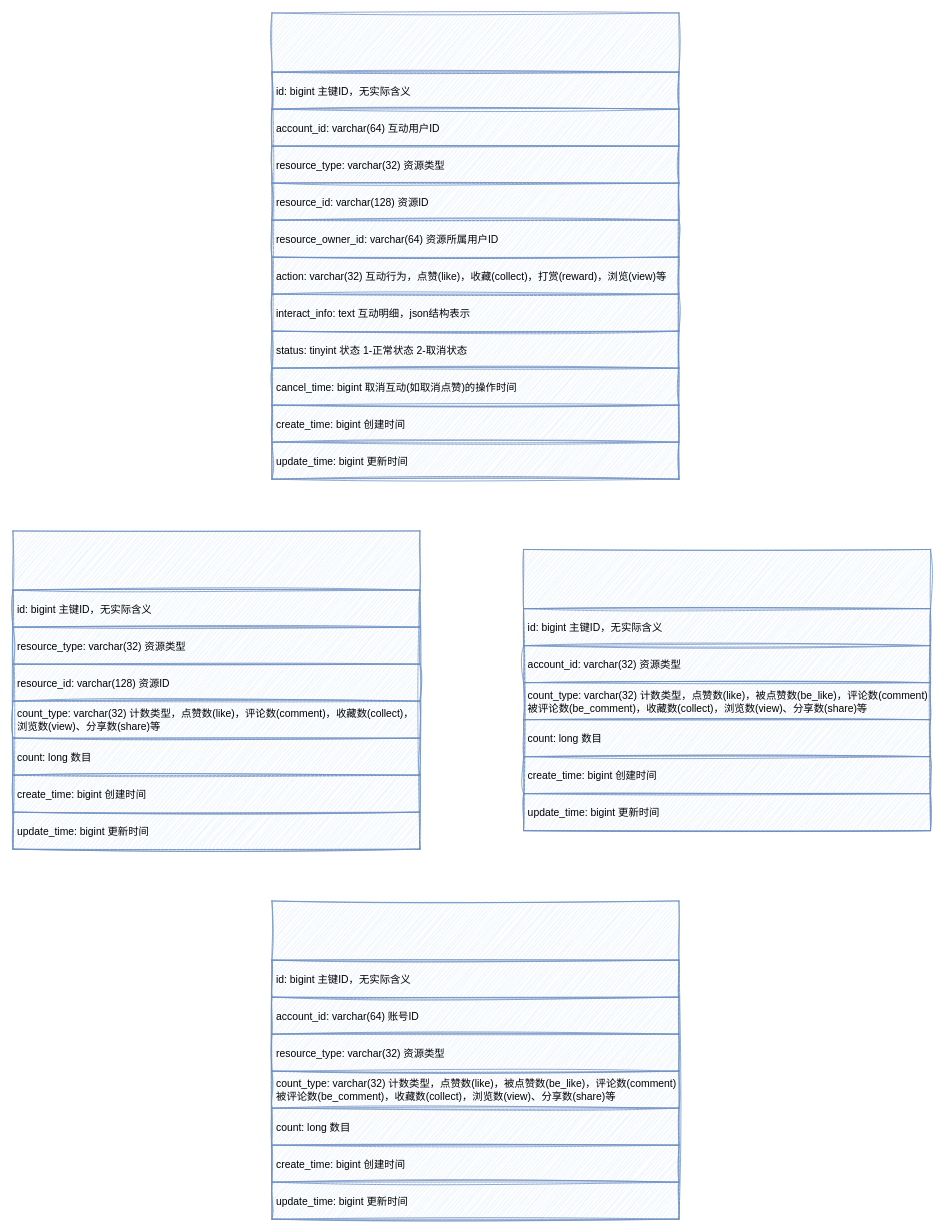
This 950x1232 diagram has some shape labels left out. The shapes that lost their labels are listed below. From the top down, each one's box as (x1, y1, x2, y2) in pixels, then its label:
(271, 12, 679, 479): csd_resource_interaction 资源互动表
(12, 530, 420, 849): csd_resource_counter 资源维度下的计数表
(523, 549, 931, 831): csd_user_counter 用户维度下的计数表
(271, 900, 679, 1219): csd_user_resource_counter 用户资源维度下的计数表
